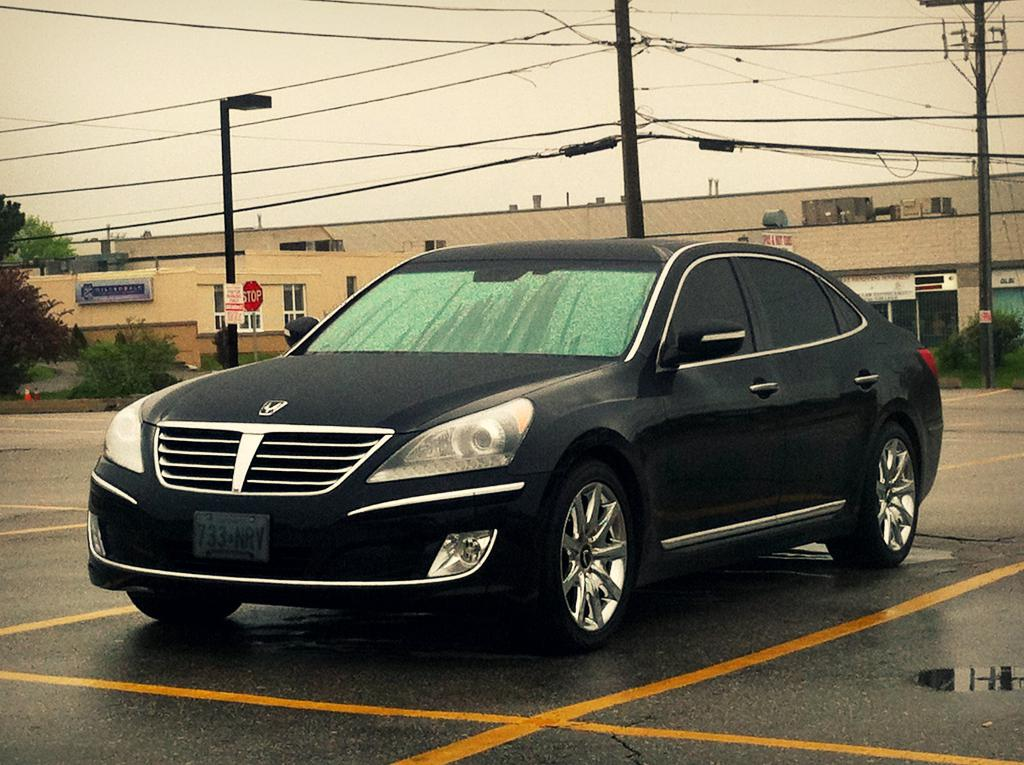Car: (91, 233, 961, 658)
